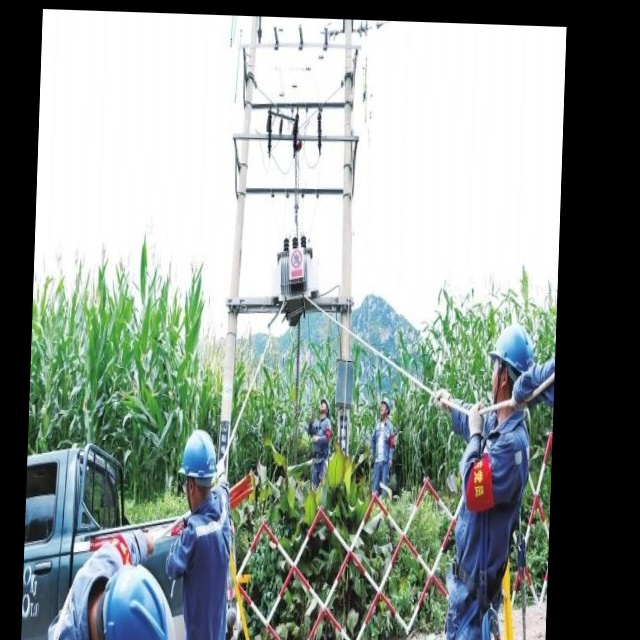Con_Casco: (179, 426, 219, 513)
